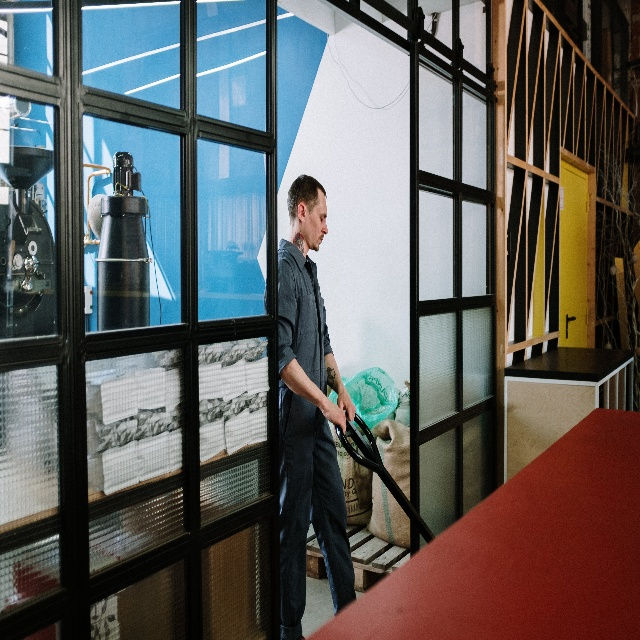Sin_guantes: (323, 395, 347, 433), (336, 383, 355, 422)
